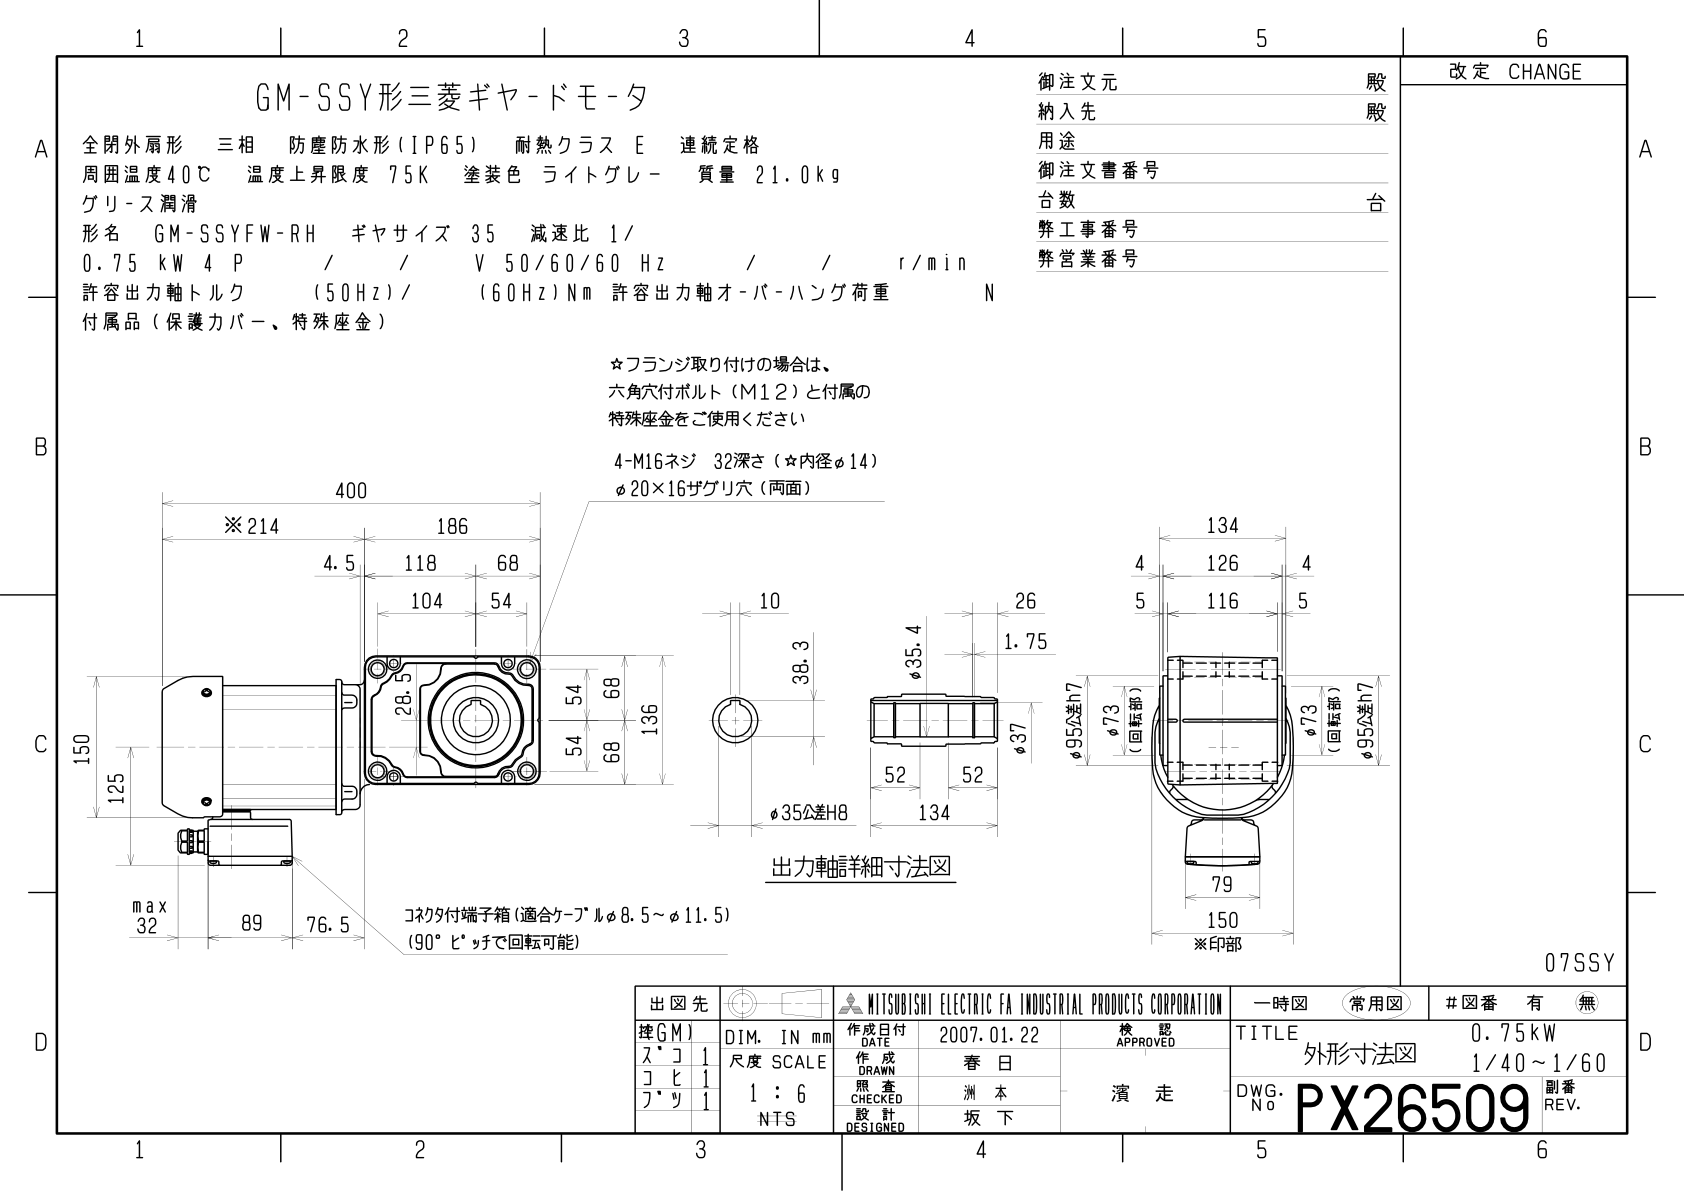GM_SSY_IP65_三相: (12, 5, 1684, 1191)
